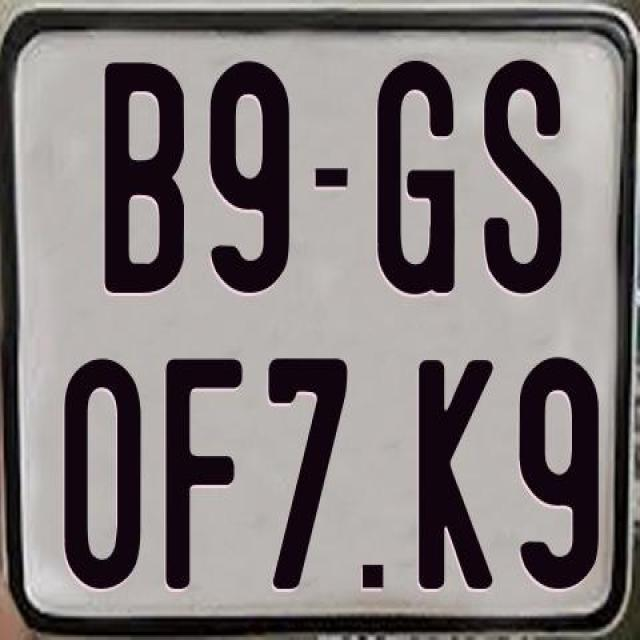0: (62, 356, 146, 594)
7: (266, 354, 348, 586)
9: (516, 354, 602, 590), (208, 56, 291, 288)
B: (105, 62, 184, 302)
F: (163, 355, 244, 586)
G: (373, 56, 458, 294)
K: (417, 357, 500, 589)
S: (482, 59, 560, 298)
